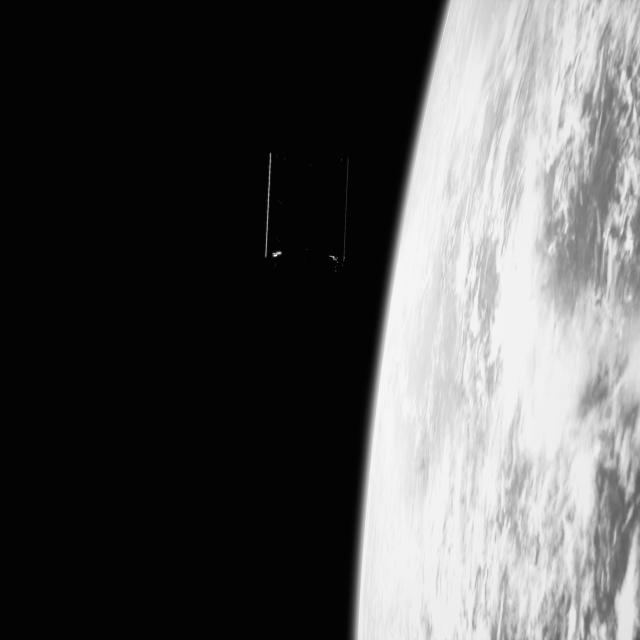medium_debris: (257, 127, 363, 281)
